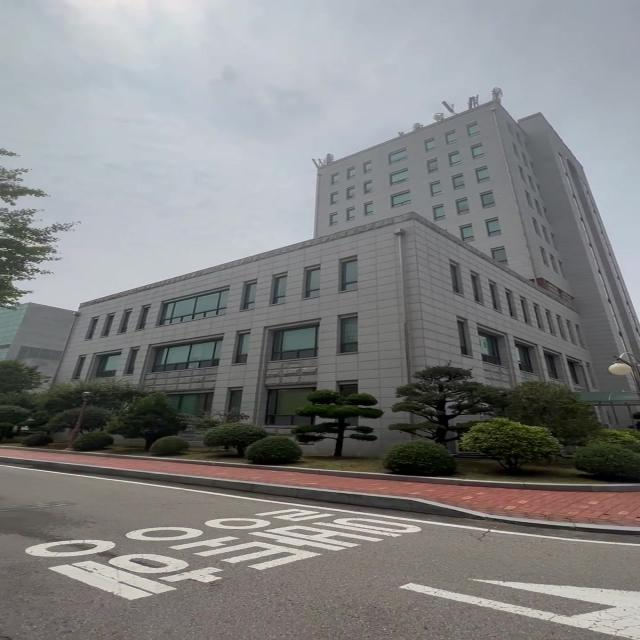building: (119, 119, 624, 366)
